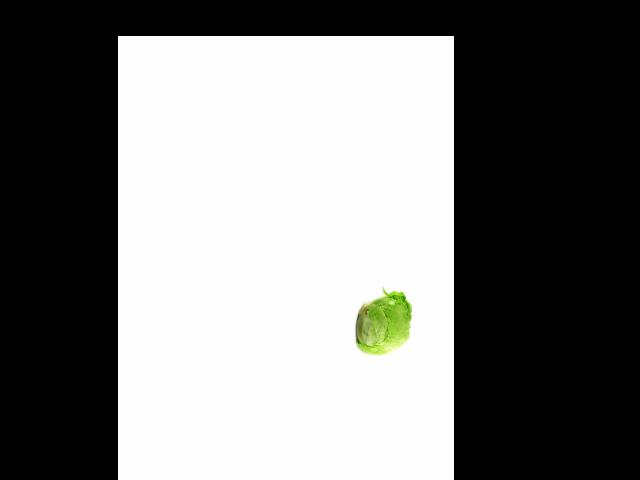lettuce: (353, 293, 414, 357)
